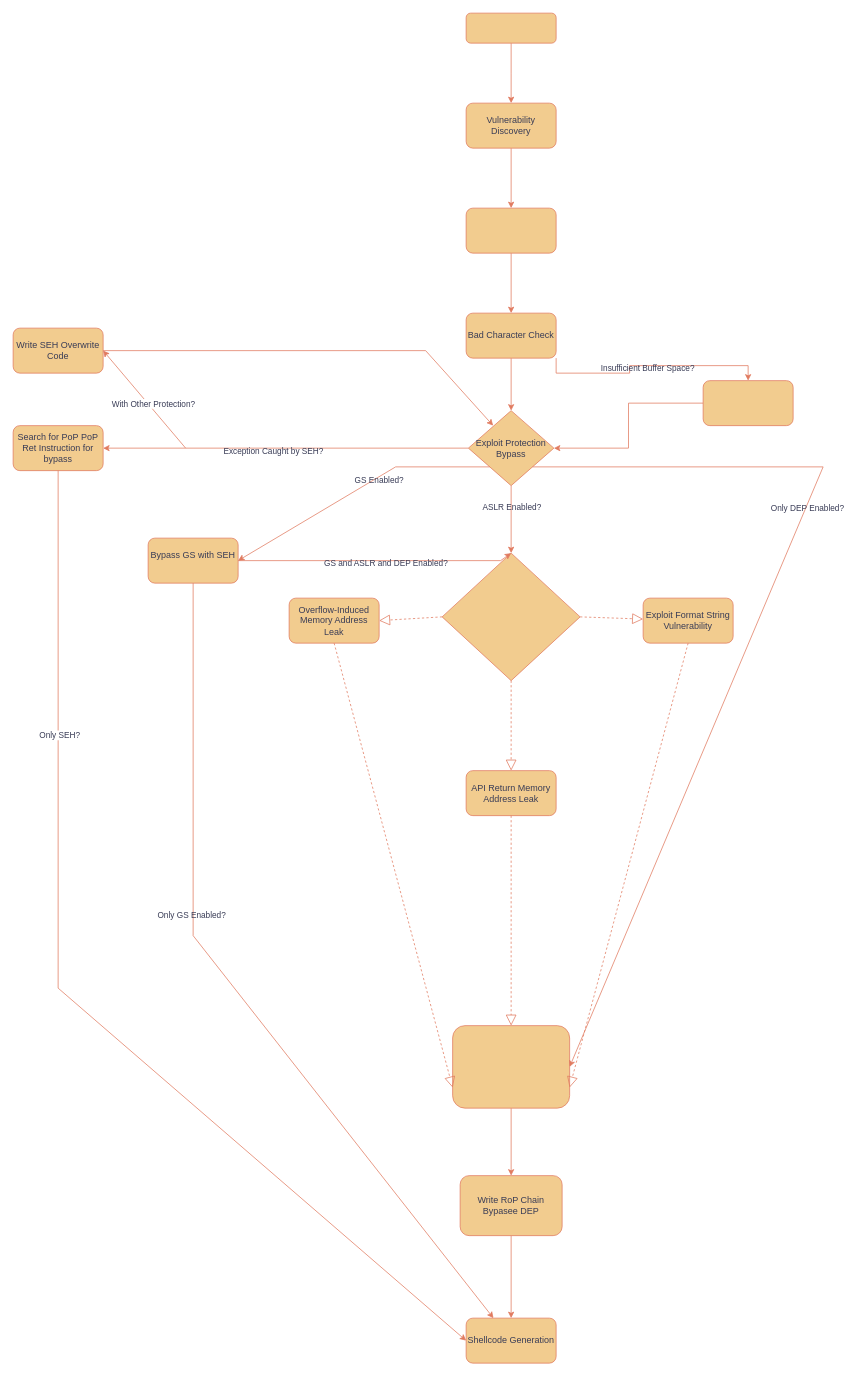
Image size: 857x1376. Some labels were removed from this diagram. Here are the shapes that lost their labels. From the top down, the box of each, then its label:
(465, 12, 556, 43): Exploit Protection Check
(465, 207, 556, 253): Instruction Pointer Offset Check
(702, 380, 793, 426): Egghunter Space Expansion
(441, 552, 580, 681): Search for Memory Address Leak Vulnerabilities
(452, 1025, 570, 1108): Search for all gadgets using rp++
